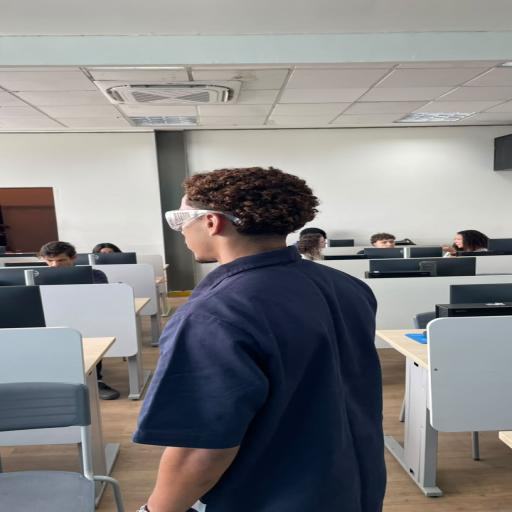OCULOS: (165, 209, 244, 231)
